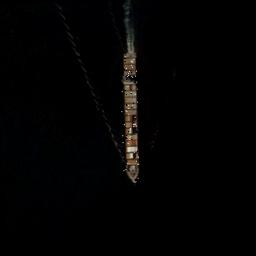boat: (120, 53, 140, 186)
